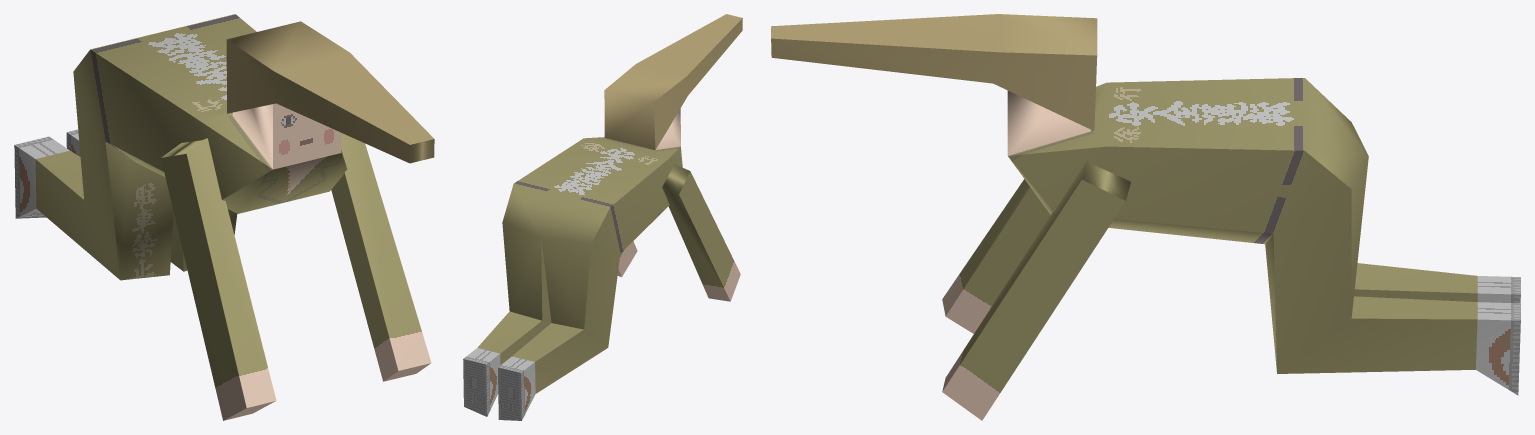
File: 0241_Playful_Punk.glb
3 views of the same model, side by side, from view 1: azimuth 30°, elevation 25°; view 2: azimuth 150°, elevation 25°; view 3: azimuth 270°, elevation 25° (orthographic). The views are drawn at different scales.
Visible parts, largest first — view 1: part_0; view 2: part_0; view 3: part_0.
Boxes of the visible parts, bbox=[...] form: part_0: bbox=[14, 14, 434, 420]; part_0: bbox=[463, 14, 742, 420]; part_0: bbox=[771, 14, 1520, 420].
Bounding box in the file's own units: 0.5388 × 0.9035 × 1.76.
Materials: 1 (1 with a texture image).
